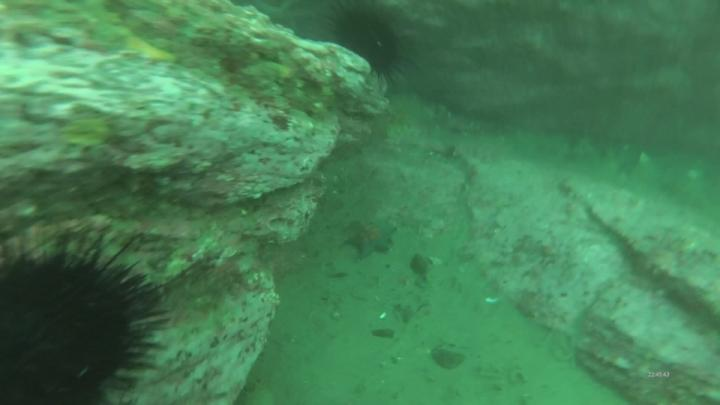echinus: (1, 221, 169, 405), (322, 2, 413, 87)
starfish: (344, 218, 398, 263)
